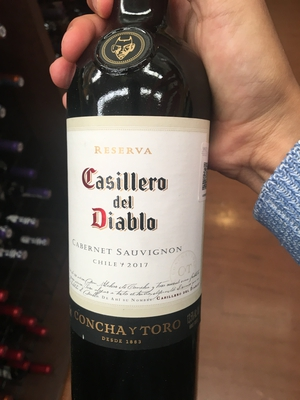casillero del diablo cabernet sauvignon: (48, 30, 216, 396)
